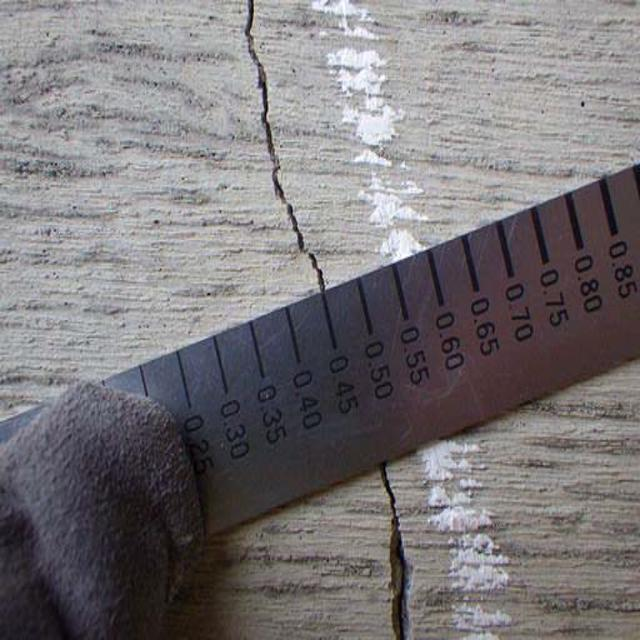crack: (227, 1, 333, 290), (367, 477, 430, 640)
